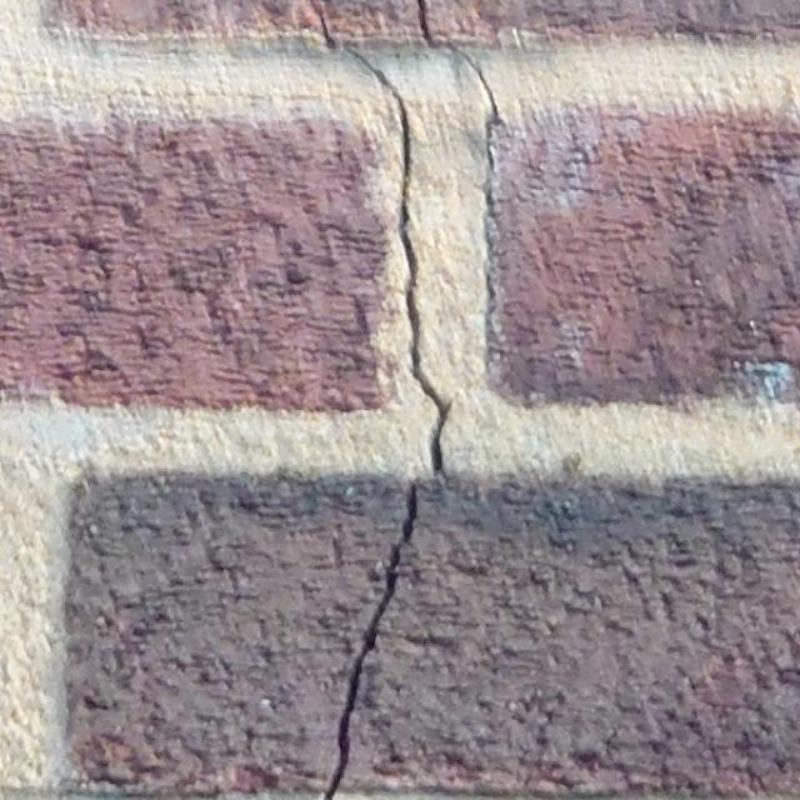pothole: (350, 48, 452, 474), (323, 483, 417, 800), (451, 45, 503, 210), (309, 0, 338, 50), (417, 0, 434, 45)
